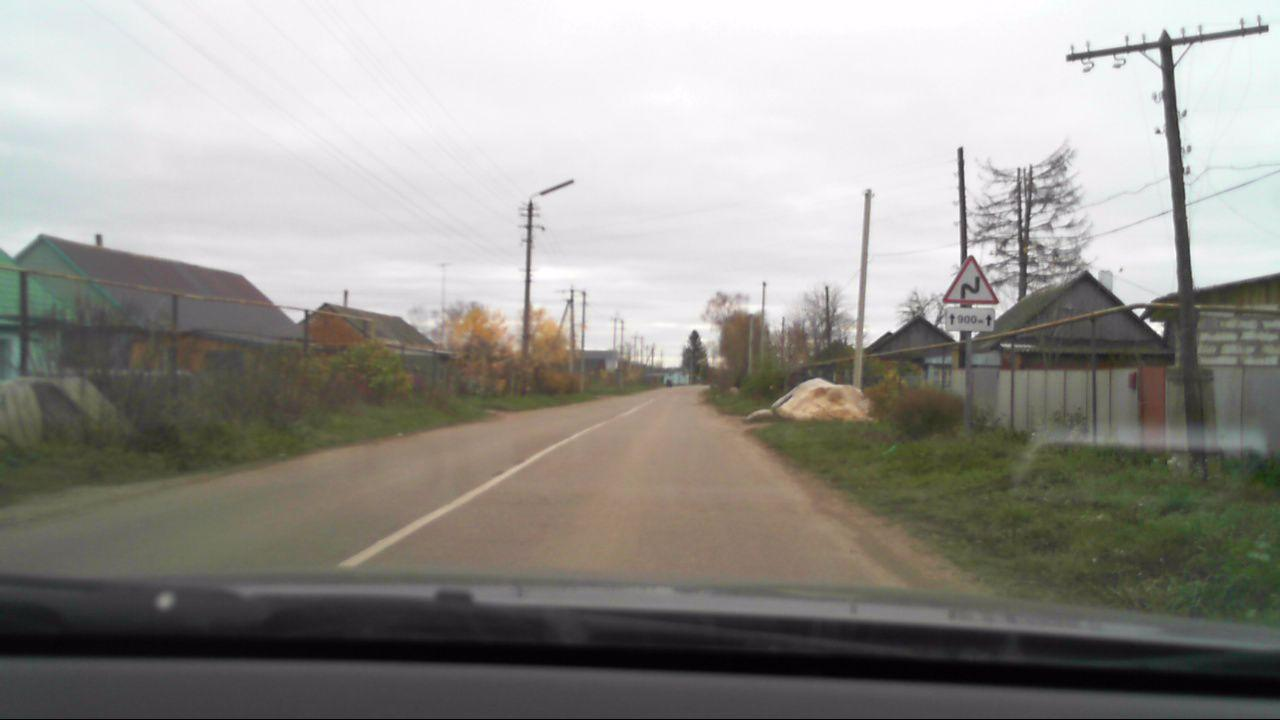1_12_1: (945, 254, 995, 302)
8_2_1: (941, 309, 997, 333)
